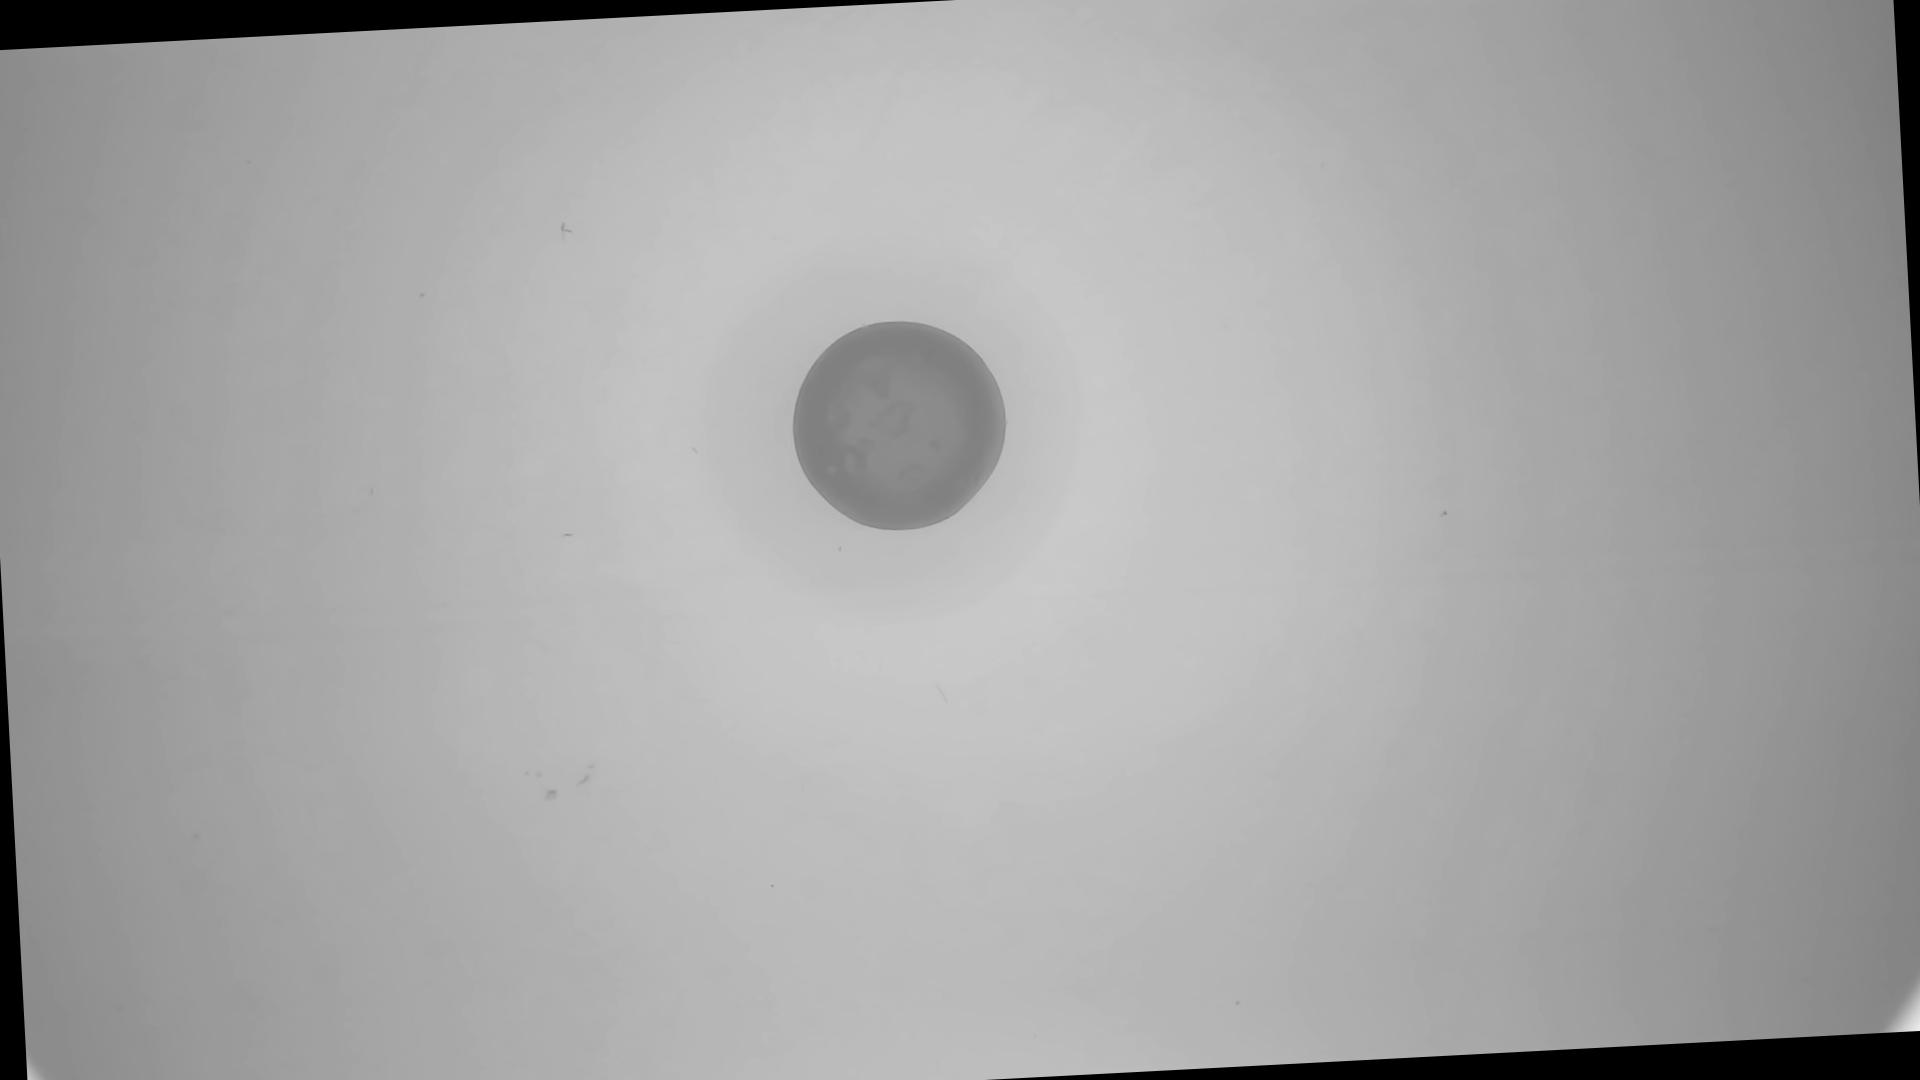abnormal: (783, 313, 1018, 539)
